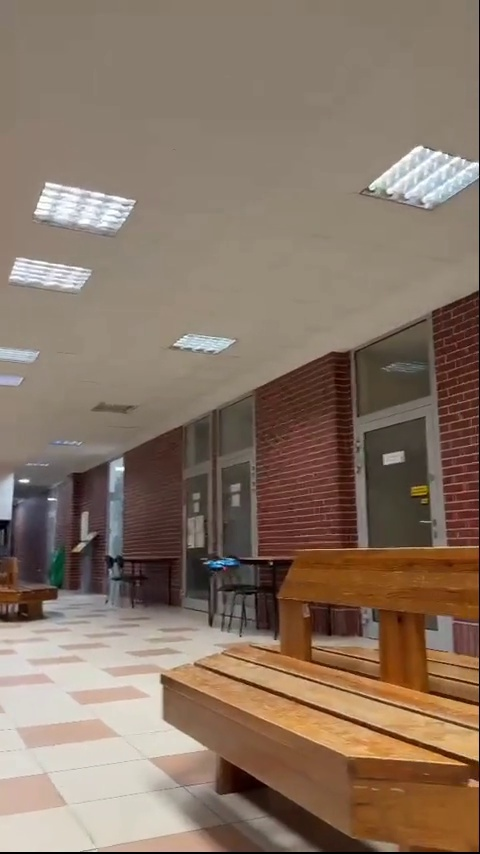drone: (205, 558, 243, 574)
